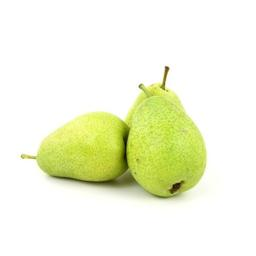Pear Fresh: (103, 75, 216, 203), (12, 113, 140, 195), (120, 59, 208, 148)
